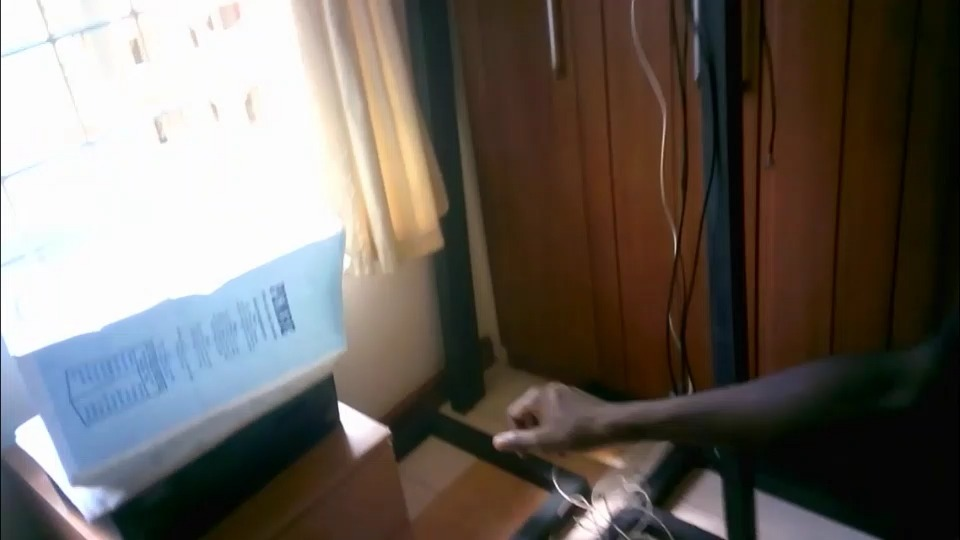wheat_flour_blue_label: (7, 212, 346, 478)
